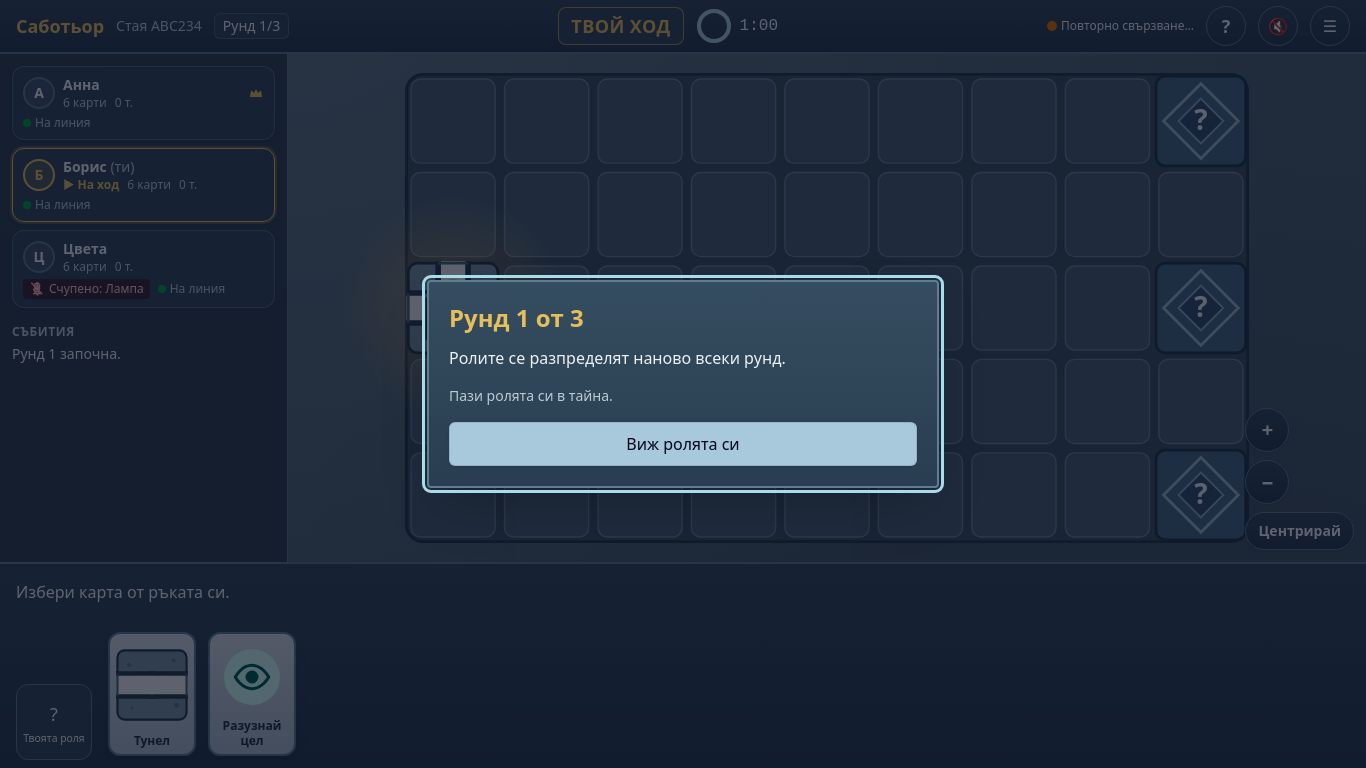
Test case: game screen › shows a deliberate role reveal at round start, then a compact private role chip
expect the list named "Твоите карти" is shown: met, box [108,632,296,756]
expect the dialog "Рунд 1 от 3" does not show "Джудже": met, box [427,280,939,488]
Click the button "Виж ролята си".
click(683, 444)  # box [449,422,917,466]
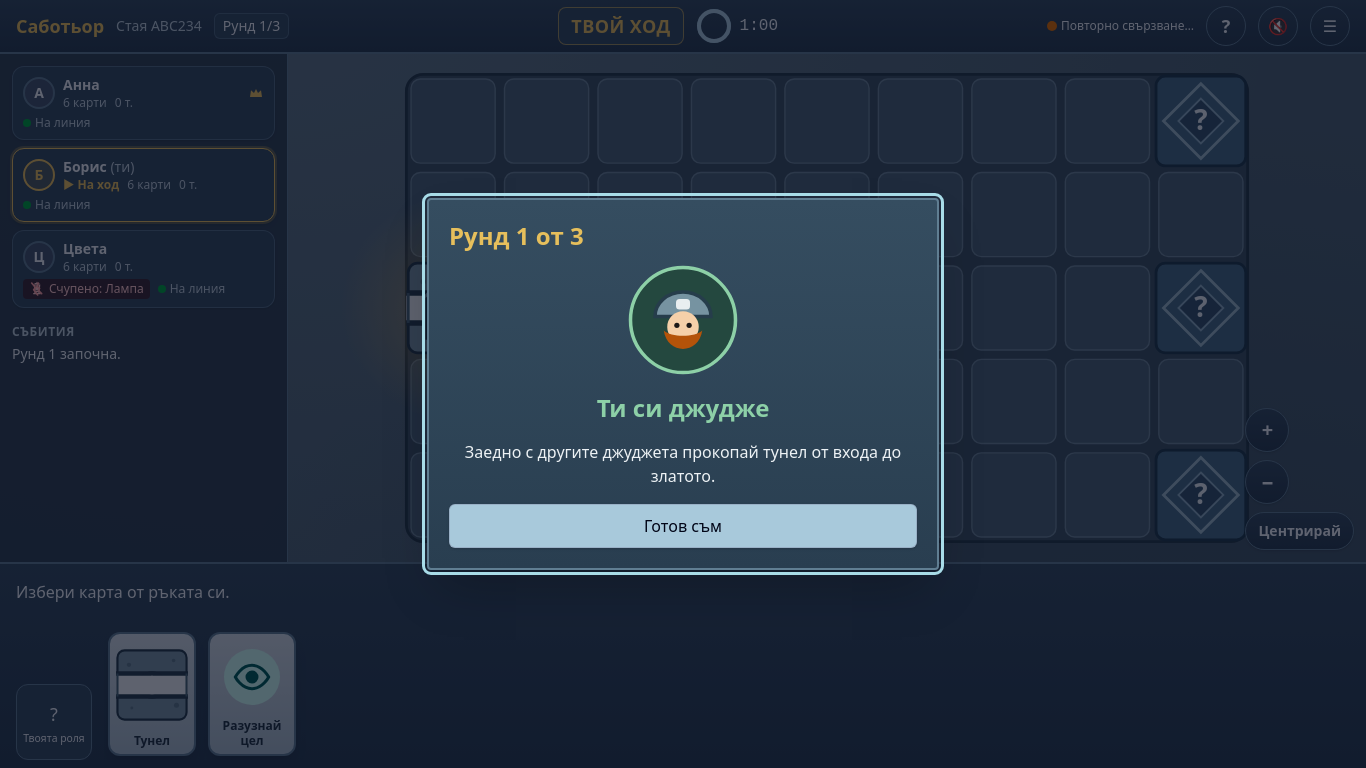
expect the text "Ти си джудже" is shown: met, box [597,391,769,424]
Click the button "Готов съм".
click(683, 526)  # box [449,504,917,548]
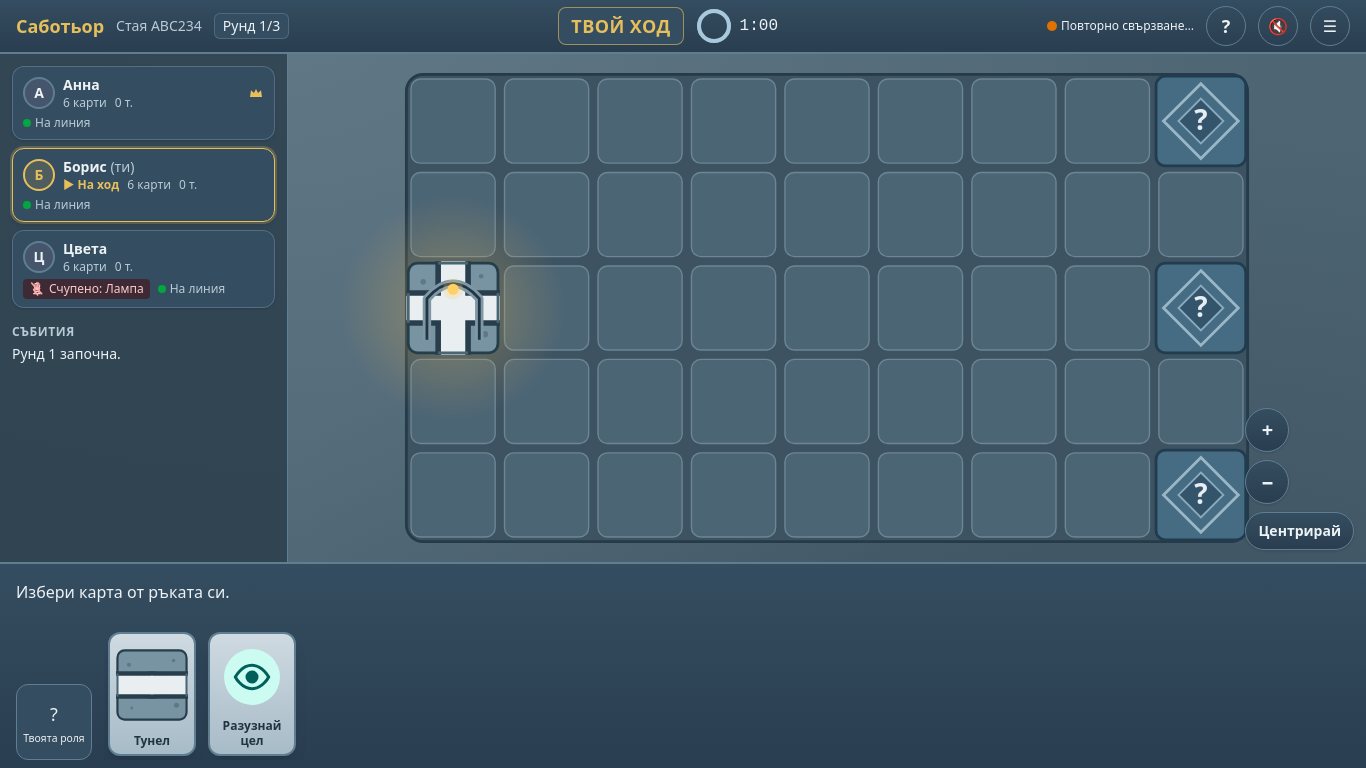
expect the dialog is gone: met
Click the button "? Твоята роля".
click(54, 722)  # box [16,684,92,760]
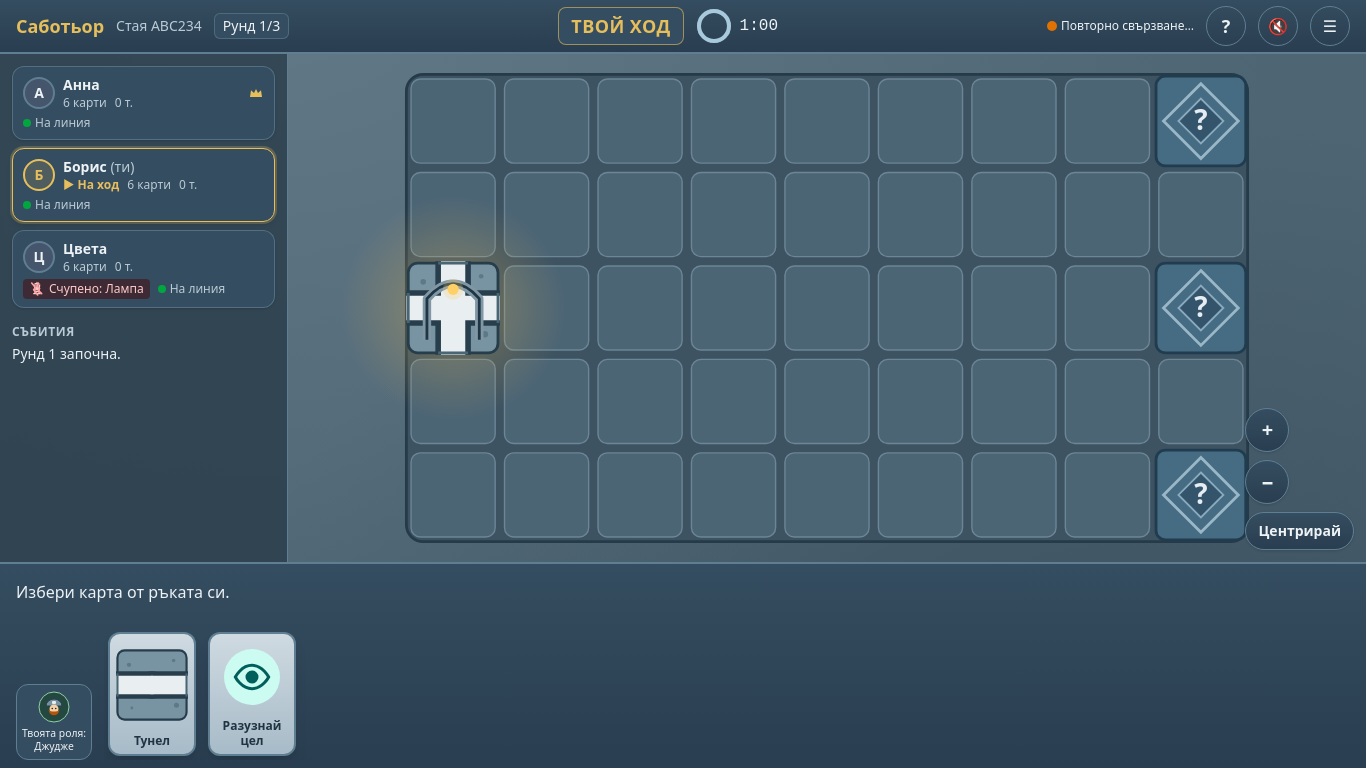
expect the text "ТВОЙ ХОД" is shown: met, box [558,7,684,45]
expect the button "Твоята роля: Джудже" is shown: met, box [16,684,92,760]
